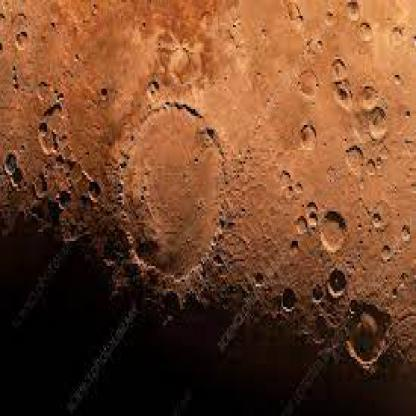craters: (103, 96, 234, 300), (340, 298, 393, 377), (35, 98, 80, 177), (0, 136, 29, 193), (366, 100, 396, 155), (327, 261, 357, 307), (316, 212, 348, 252), (294, 64, 326, 102), (296, 116, 324, 155), (339, 141, 369, 175), (156, 289, 189, 318), (83, 177, 109, 209), (11, 21, 30, 64), (330, 78, 354, 112), (52, 186, 76, 216), (357, 82, 380, 113), (280, 284, 301, 316), (330, 54, 354, 82), (291, 209, 313, 239), (140, 80, 166, 104), (384, 27, 410, 50), (309, 279, 330, 307), (354, 20, 375, 46), (375, 241, 396, 266), (337, 0, 366, 18), (398, 216, 414, 243), (363, 152, 377, 180), (322, 12, 342, 30), (307, 202, 324, 223), (34, 176, 47, 200), (98, 86, 109, 112), (369, 207, 384, 225)
